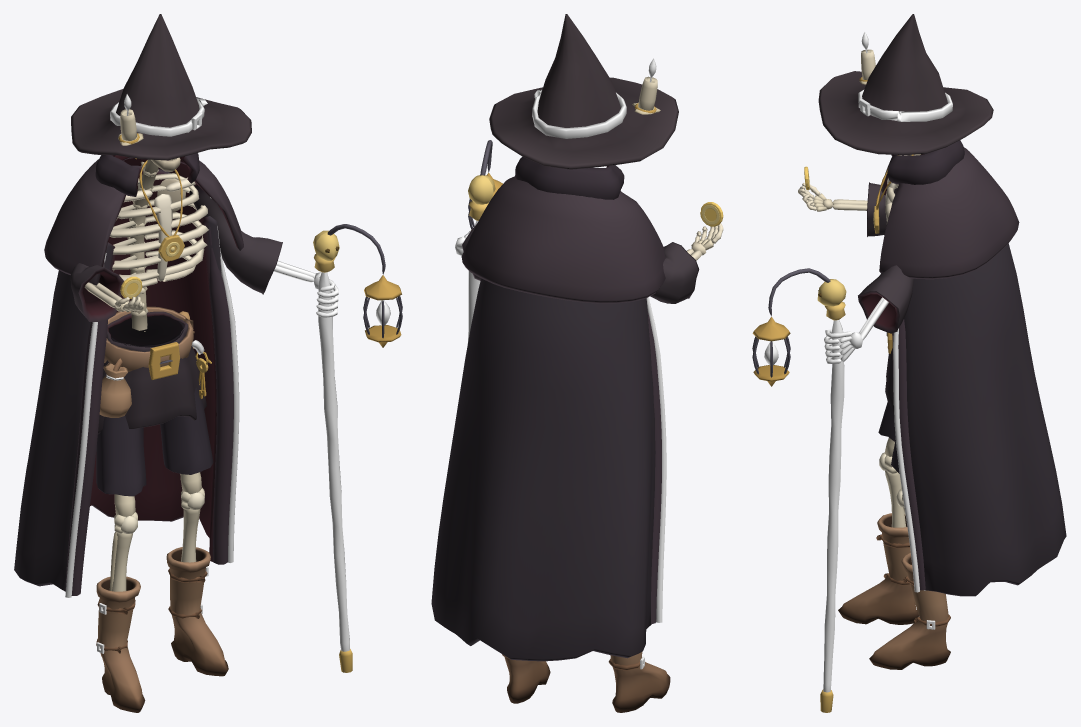
File: ShopNPC.fbx
The picture shows the model from 3 angles, left to right: view 1: azimuth 30°, elevation 25°; view 2: azimuth 150°, elevation 25°; view 3: azimuth 270°, elevation 25°; orthographic projection. The views are drawn at different scales.
Parts seen in each view (by area): view 1: Part_Cloak_cloak, Part_Hat_cloak, Part_Legs_Boots_leather, Part_Torso_Ribcage_bone, Part_PelvisRoot_cloak, Part_Arm_L_leather, Part_Cloak_leather, Part_Thigh_R_cloak, Part_Arm_L_cloak, Part_Arm_L_brass, Part_Thigh_L_cloak, Part_Arm_R_cloak (+9 smaller); view 2: Part_Cloak_cloak, Part_Hat_cloak, Part_Legs_Boots_leather, Part_Arm_R_cloak, Part_Cloak_leather, Part_Hat_leather, Part_Arm_L_brass, Part_Arm_R_bone, Part_Candle_bone, Part_Arm_L_leather; view 3: Part_Cloak_cloak, Part_Hat_cloak, Part_Legs_Boots_leather, Part_Arm_L_leather, Part_Arm_L_brass, Part_Arm_L_cloak, Part_Cloak_leather, Part_Arm_L_bone, Part_Hat_leather, Part_Arm_R_bone, Part_Shin_R_bone, Part_Arm_R_cloak.
Part boxes in pixels (x1=…): Part_Cloak_cloak: x1=14, y1=153, x2=243, y2=595; Part_Hat_cloak: x1=71, y1=14, x2=251, y2=160; Part_Legs_Boots_leather: x1=96, y1=547, x2=228, y2=712; Part_Torso_Ribcage_bone: x1=109, y1=159, x2=208, y2=331; Part_PelvisRoot_cloak: x1=98, y1=311, x2=206, y2=434; Part_Arm_L_leather: x1=318, y1=272, x2=349, y2=651; Part_Cloak_leather: x1=65, y1=225, x2=239, y2=597; Part_Thigh_R_cloak: x1=96, y1=416, x2=146, y2=496; Part_Arm_L_cloak: x1=189, y1=185, x2=282, y2=294; Part_Arm_L_brass: x1=313, y1=224, x2=402, y2=672; Part_Thigh_L_cloak: x1=160, y1=387, x2=213, y2=474; Part_Arm_R_cloak: x1=70, y1=261, x2=123, y2=321; Part_Cloak_cloak: x1=431, y1=156, x2=666, y2=661; Part_Hat_cloak: x1=489, y1=14, x2=678, y2=169; Part_Legs_Boots_leather: x1=502, y1=652, x2=670, y2=712; Part_Arm_R_cloak: x1=650, y1=242, x2=699, y2=303; Part_Cloak_leather: x1=646, y1=297, x2=666, y2=622; Part_Hat_leather: x1=532, y1=89, x2=626, y2=138; Part_Arm_L_brass: x1=468, y1=140, x2=502, y2=230; Part_Arm_R_bone: x1=687, y1=223, x2=723, y2=260; Part_Candle_bone: x1=632, y1=76, x2=660, y2=114; Part_Arm_L_leather: x1=467, y1=220, x2=480, y2=343; Part_Cloak_cloak: x1=879, y1=140, x2=1066, y2=596; Part_Hat_cloak: x1=818, y1=14, x2=993, y2=155; Part_Legs_Boots_leather: x1=838, y1=513, x2=950, y2=669; Part_Arm_L_leather: x1=823, y1=320, x2=844, y2=692; Part_Arm_L_brass: x1=752, y1=268, x2=846, y2=712; Part_Arm_L_cloak: x1=858, y1=265, x2=913, y2=333; Part_Cloak_leather: x1=893, y1=328, x2=919, y2=592; Part_Arm_L_bone: x1=824, y1=297, x2=888, y2=363; Part_Hat_leather: x1=858, y1=89, x2=952, y2=121; Part_Arm_R_bone: x1=798, y1=183, x2=867, y2=211; Part_Shin_R_bone: x1=879, y1=452, x2=906, y2=527; Part_Arm_R_cloak: x1=867, y1=182, x2=897, y2=236.
Size of the model in its own units: 77.11 by 176 by 79.37.
